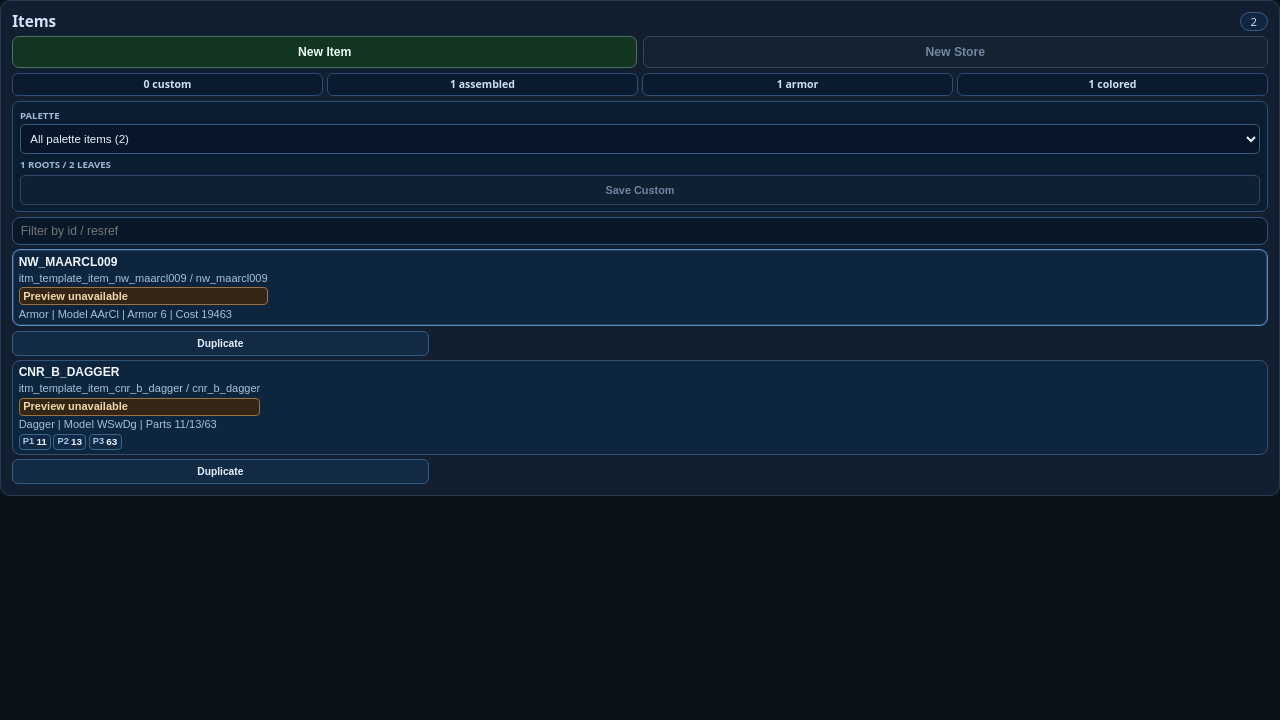
Test case: ItemsModePanel › filters loaded items by Aurora ITP palette branch
Select "- Armor / 1 items" in the dropdown named "Item palette category" at (640, 139), box [20, 124, 1260, 154]
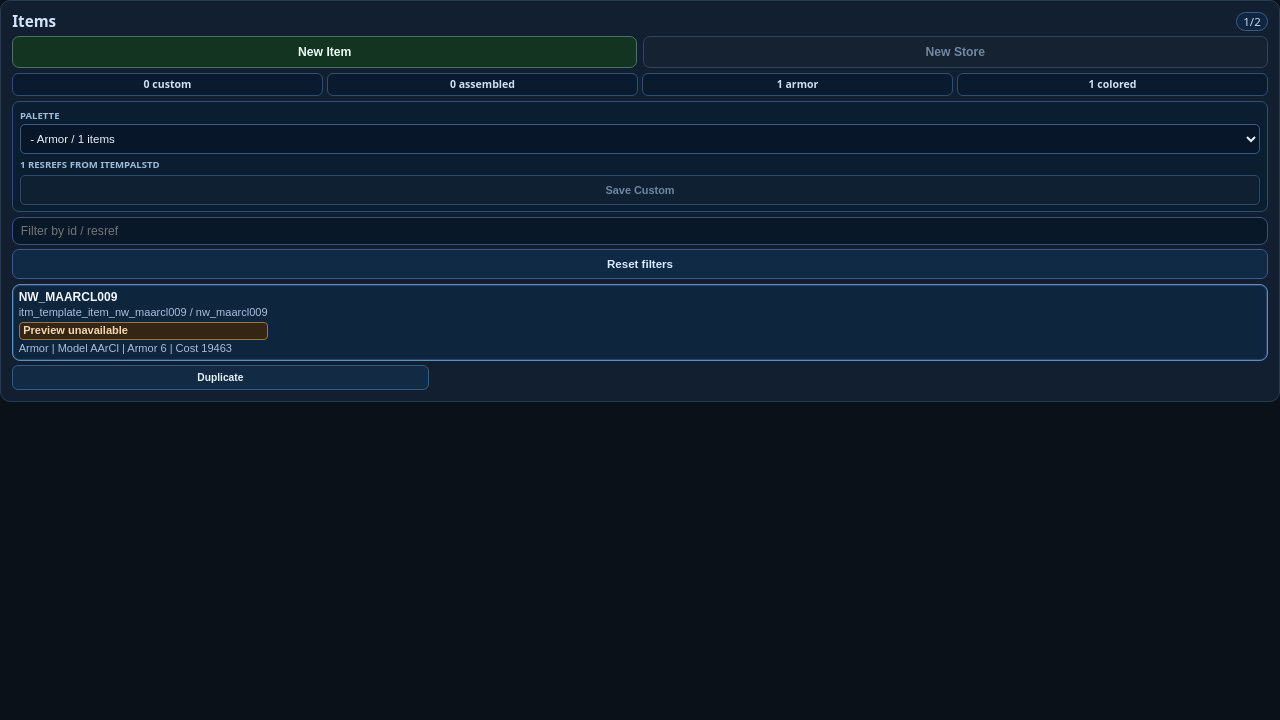
expect the text "NW_MAARCL009" is shown: met, box [19, 290, 117, 304]
expect the text titled "Filtered loaded items / total items" reads "1/2": met, box [1243, 14, 1261, 29]
expect the button "CNR_B_DAGGER" is gone: met
Click the button with aria-label "reset items filters" at (640, 264), box [12, 249, 1268, 279]
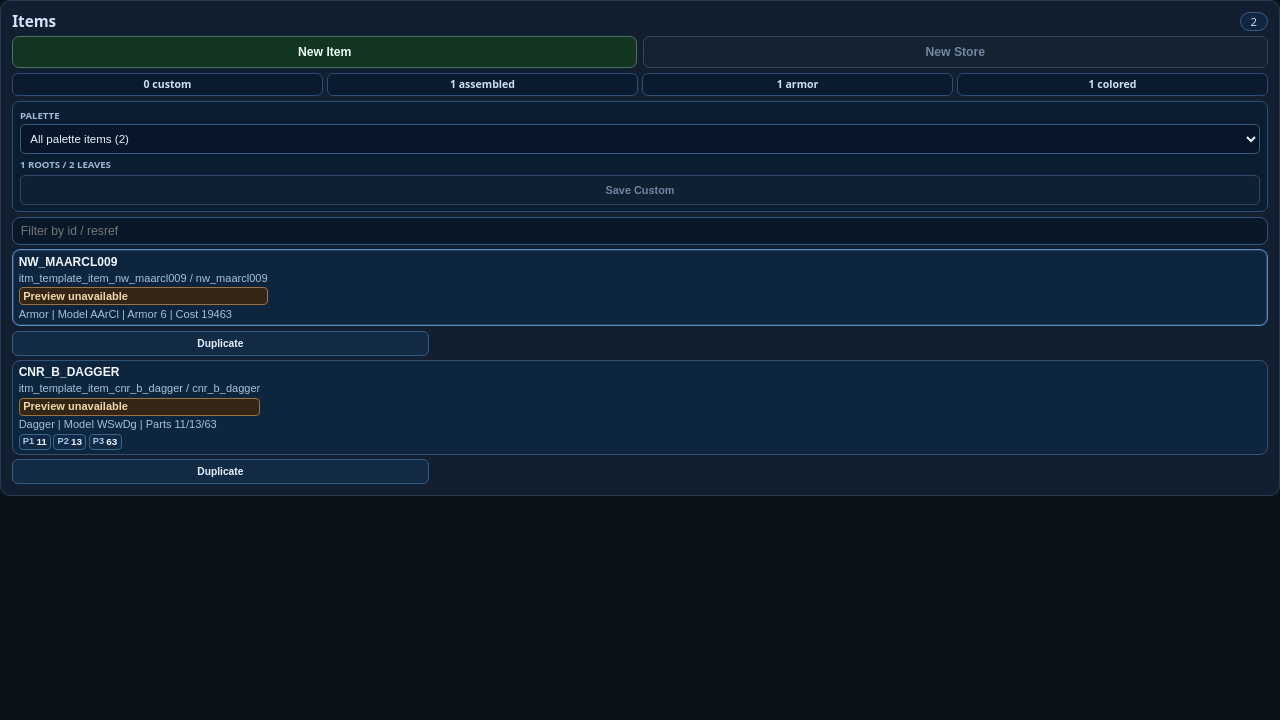
expect the text titled "Total items" reads "2": met, box [1250, 14, 1257, 29]
expect the text "CNR_B_DAGGER" is shown: met, box [19, 365, 119, 379]
